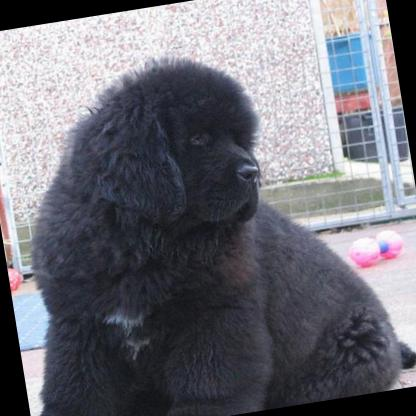Newfoundland: (0, 22, 416, 416)
